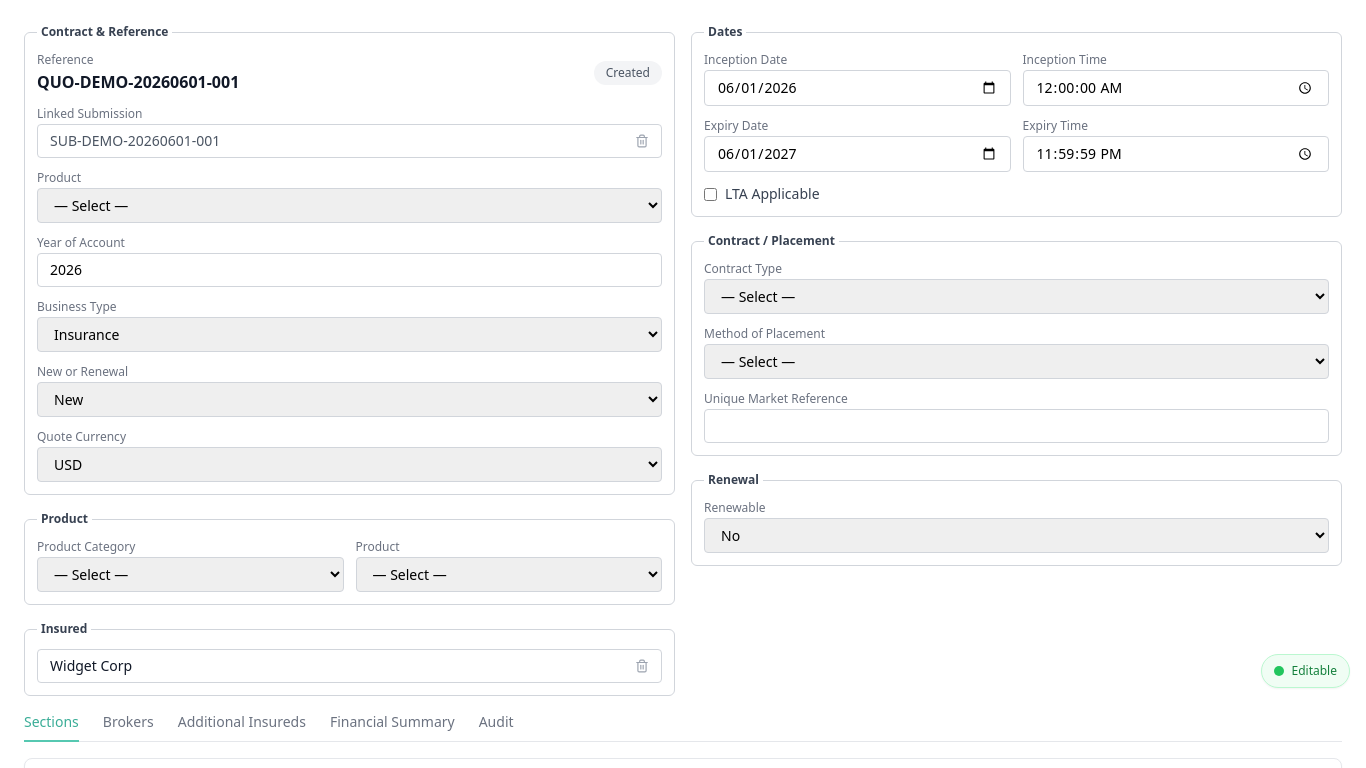
Test: QuoteViewPage › T-quotes-view-R13 — Renewable Yes reveals Renewal Date and Renewal Status
Expected: the field labelled "renewal date" is not shown
// Change Renewable to Yes
Select "Yes" in the dropdown named "renewable": x=1016, y=536 x1=704 y1=518 x2=1329 y2=553
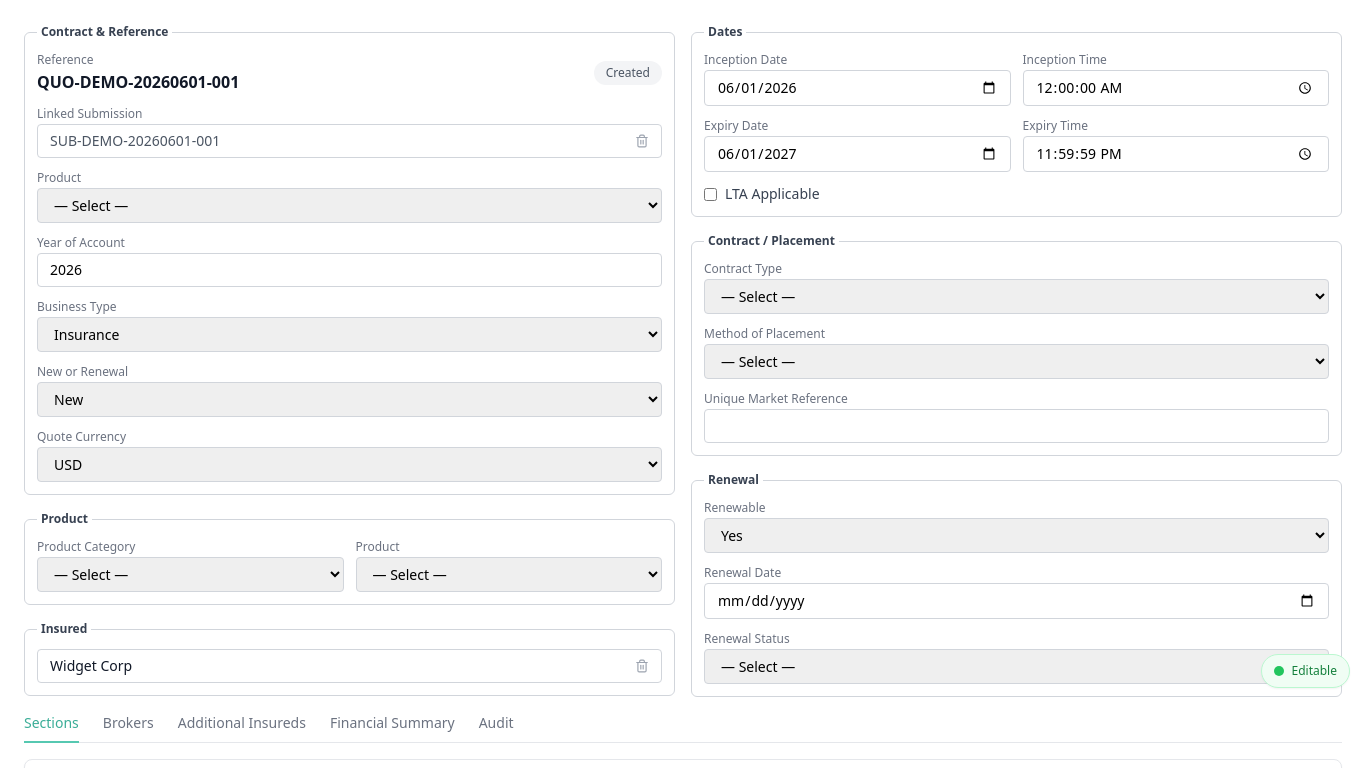
Now the date field named "renewal date" is shown, box x1=704 y1=583 x2=1329 y2=619
Now the dropdown named "renewal status" is shown, box x1=704 y1=649 x2=1329 y2=684
